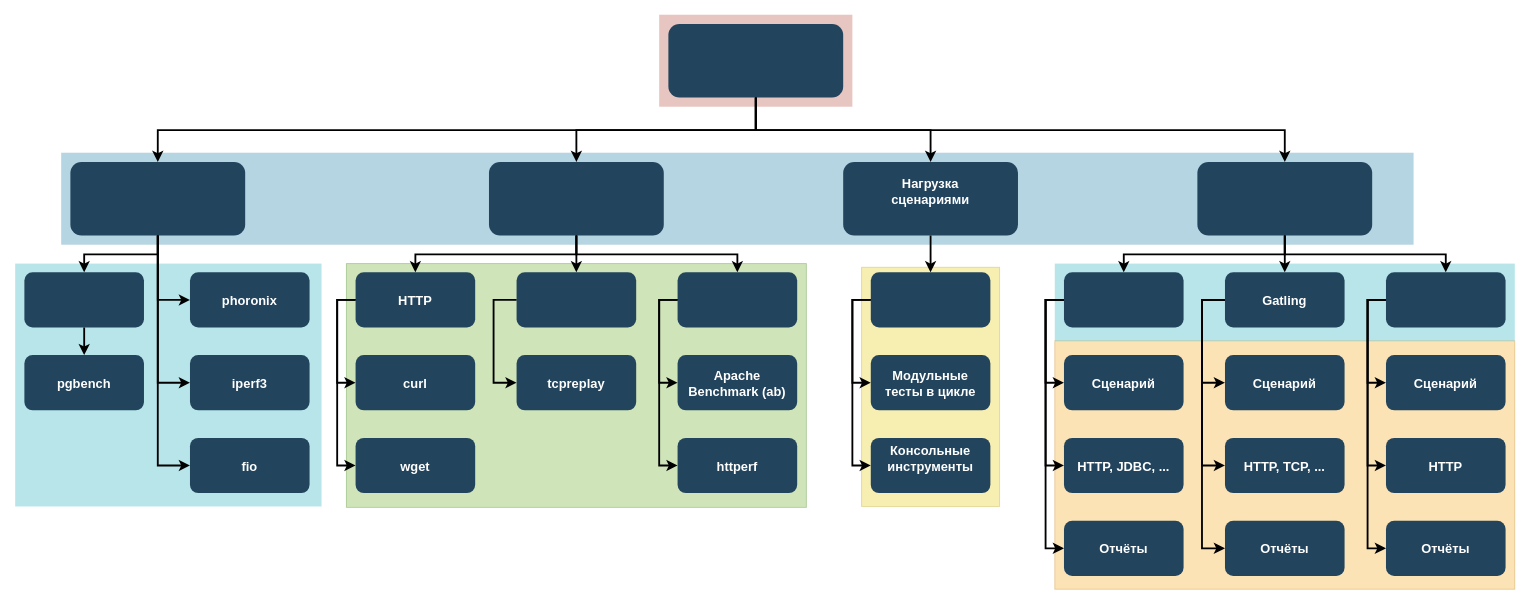
Image size: 1530x604. Some labels were removed from this diagram. The shapes that lost their labels are listed below. From the top down, each one's centre as x and y in pixels, then its label:
pixel 755 60: Выбор инструмента
pixel 157 198: Нагрузка на инфраструктуру
pixel 576 198: Нагрузка статическими запросами
pixel 1284 198: Нагрузка сценариями с отчётами
pixel 84 299: MySQL Sysbench Benchmark
pixel 576 299: TCP
pixel 737 299: HTTP (с потоками)
pixel 930 299: Самописные утилиты
pixel 1123 299: Apache.JMeter
pixel 1445 299: Yandex.Tank
